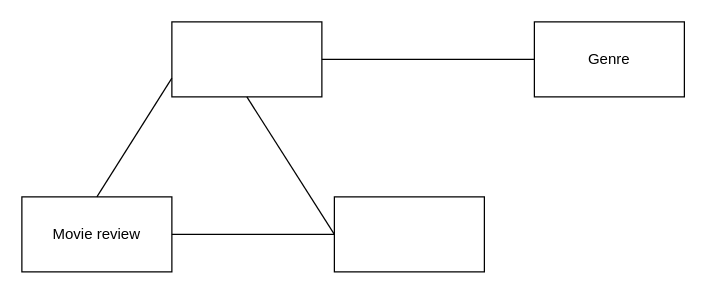
The diagram is 706 pixels wide and 294 high, and some of its shapes have lost their labels. Each missing label, with the box of its shape:
Movie: (171, 21, 322, 97)
User: (333, 196, 484, 272)
